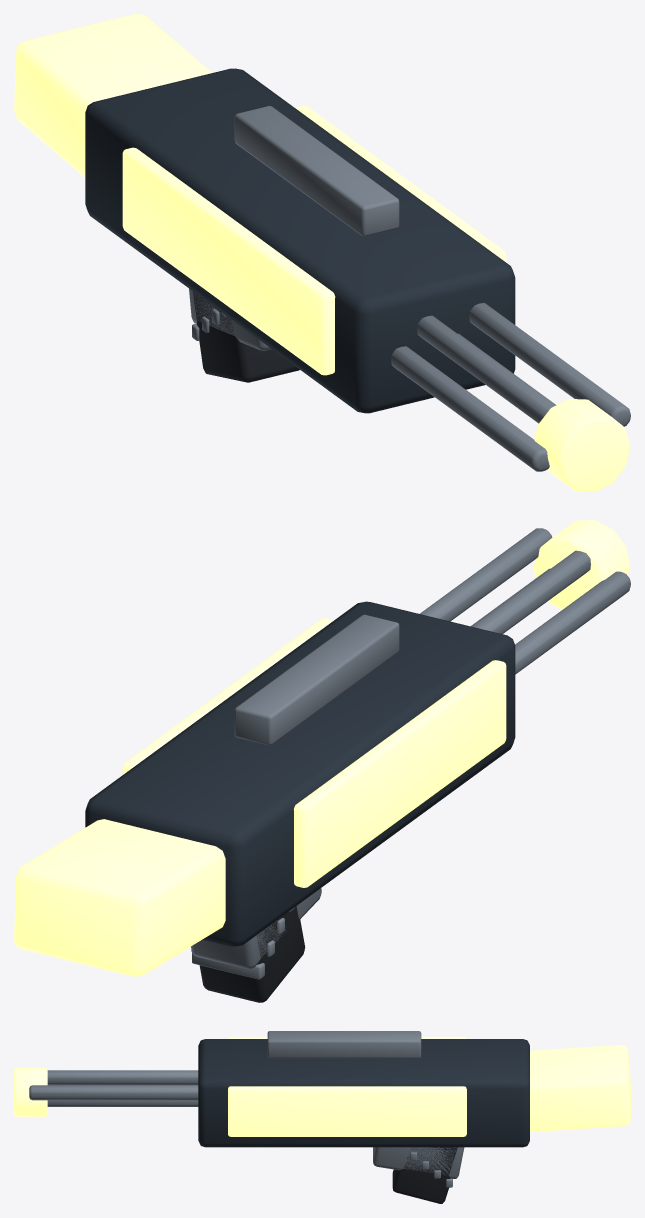
Rendered from Doombringer_Chaingun.fbx.
The picture shows the model from 3 angles, top to bottom: view 1: azimuth 30°, elevation 25°; view 2: azimuth 150°, elevation 25°; view 3: azimuth 270°, elevation 25°; orthographic projection. The views are drawn at different scales.
Parts seen in each view (by area): view 1: Receiver.017, SideArmorLeft.008, Stock.008, TopRail.017, MuzzleBrake.008, Barrel_00.008, Barrel_03, Barrel_01.001, Grip.017, SideArmorRight.008, Magazine.003; view 2: Receiver.017, Stock.008, SideArmorLeft.008, TopRail.017, MuzzleBrake.008, Grip.017, Barrel_00.008, Barrel_03, Barrel_01.001, SideArmorRight.008, Magazine.003, GripRib_03.017; view 3: Receiver.017, SideArmorRight.008, Stock.008, TopRail.017, Barrel_03, Barrel_01.001, Grip.017, Magazine.003, MuzzleBrake.008, Barrel_02.001.
Part boxes in pixels (box(x1,y1,x2,y2)): Receiver.017: box(85, 68, 515, 413); SideArmorLeft.008: box(122, 147, 335, 375); Stock.008: box(14, 14, 211, 177); TopRail.017: box(234, 106, 399, 236); MuzzleBrake.008: box(534, 399, 630, 491); Barrel_00.008: box(391, 346, 549, 471); Barrel_03: box(469, 303, 630, 426); Barrel_01.001: box(417, 315, 555, 423); Grip.017: box(193, 291, 299, 382); SideArmorRight.008: box(295, 106, 506, 262); Magazine.003: box(189, 288, 271, 350); Receiver.017: box(85, 601, 515, 946); Stock.008: box(14, 819, 225, 976); SideArmorLeft.008: box(293, 660, 506, 887); TopRail.017: box(234, 614, 399, 745); MuzzleBrake.008: box(533, 520, 629, 609); Grip.017: box(199, 906, 305, 1002); Barrel_00.008: box(515, 571, 630, 674); Barrel_03: box(420, 528, 552, 621); Barrel_01.001: box(472, 550, 590, 633); SideArmorRight.008: box(122, 618, 333, 774); Magazine.003: box(191, 888, 321, 968); GripRib_03.017: box(192, 953, 264, 979); Receiver.017: box(198, 1039, 529, 1147); SideArmorRight.008: box(228, 1086, 466, 1136); Stock.008: box(530, 1045, 630, 1131); TopRail.017: box(267, 1031, 421, 1058); Barrel_03: box(29, 1085, 198, 1100); Barrel_01.001: box(47, 1070, 198, 1084); Grip.017: box(392, 1147, 457, 1203); Magazine.003: box(373, 1147, 464, 1178); MuzzleBrake.008: box(14, 1067, 47, 1116); Barrel_02.001: box(47, 1100, 198, 1106).
Bounding box in the file's own units: 128 × 179 × 623.
